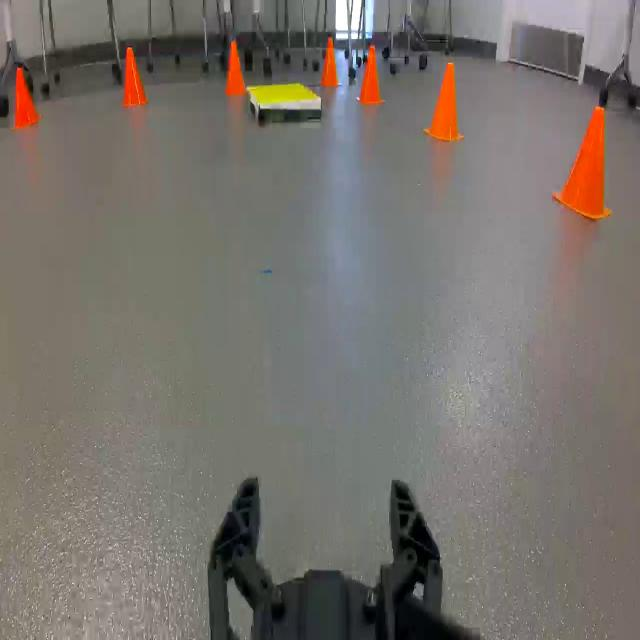cone: (550, 100, 616, 226), (422, 58, 469, 147), (118, 40, 150, 113), (9, 64, 39, 135), (354, 42, 384, 112), (222, 39, 250, 101), (319, 32, 343, 92)
yellow goal: (244, 77, 326, 126)
